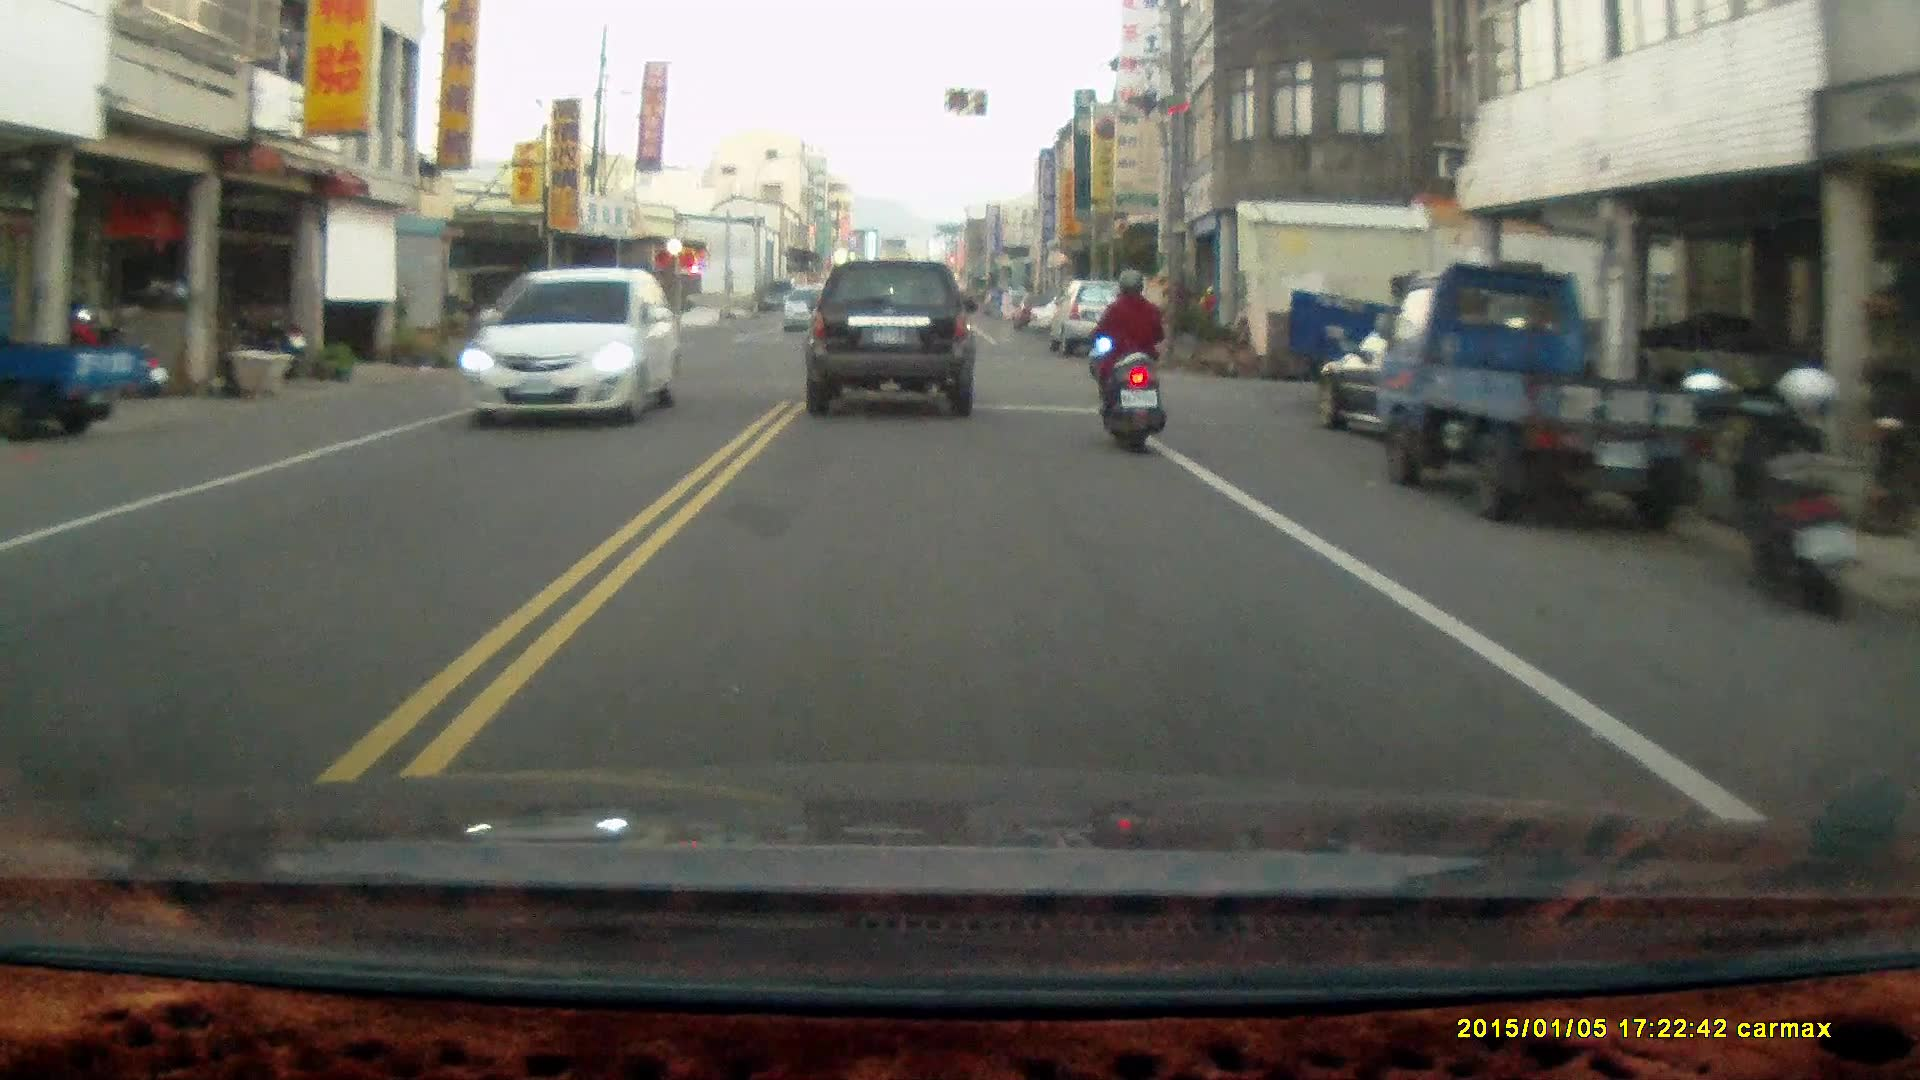rider: (1090, 265, 1167, 455)
vehicle: (1371, 259, 1728, 536), (462, 266, 679, 430), (1283, 277, 1505, 423), (1318, 321, 1551, 451), (803, 256, 983, 422), (1, 267, 167, 439), (1049, 276, 1147, 359)
